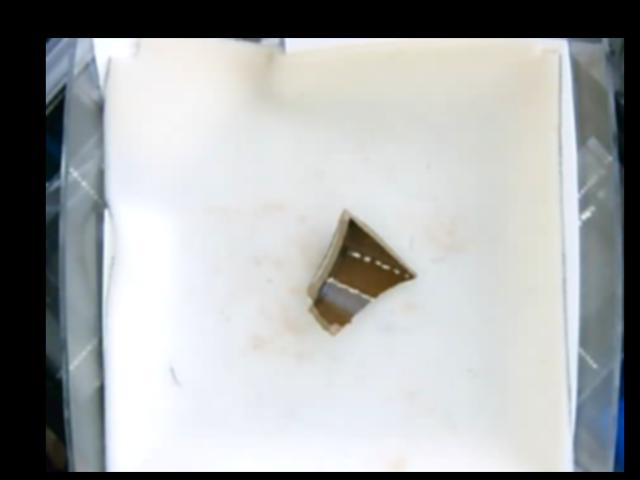China: (306, 211, 414, 335)
